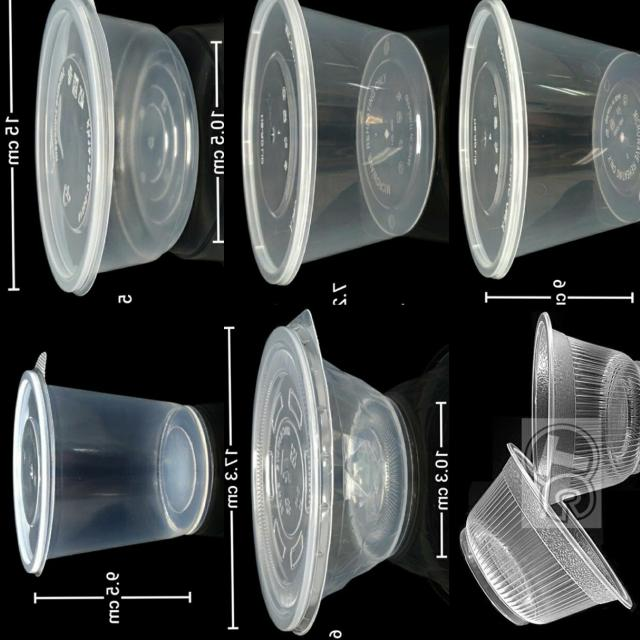plastik: (241, 0, 434, 285), (251, 310, 410, 635), (458, 0, 640, 279), (35, 0, 198, 296), (12, 352, 212, 575), (460, 443, 631, 625), (531, 313, 640, 504)
